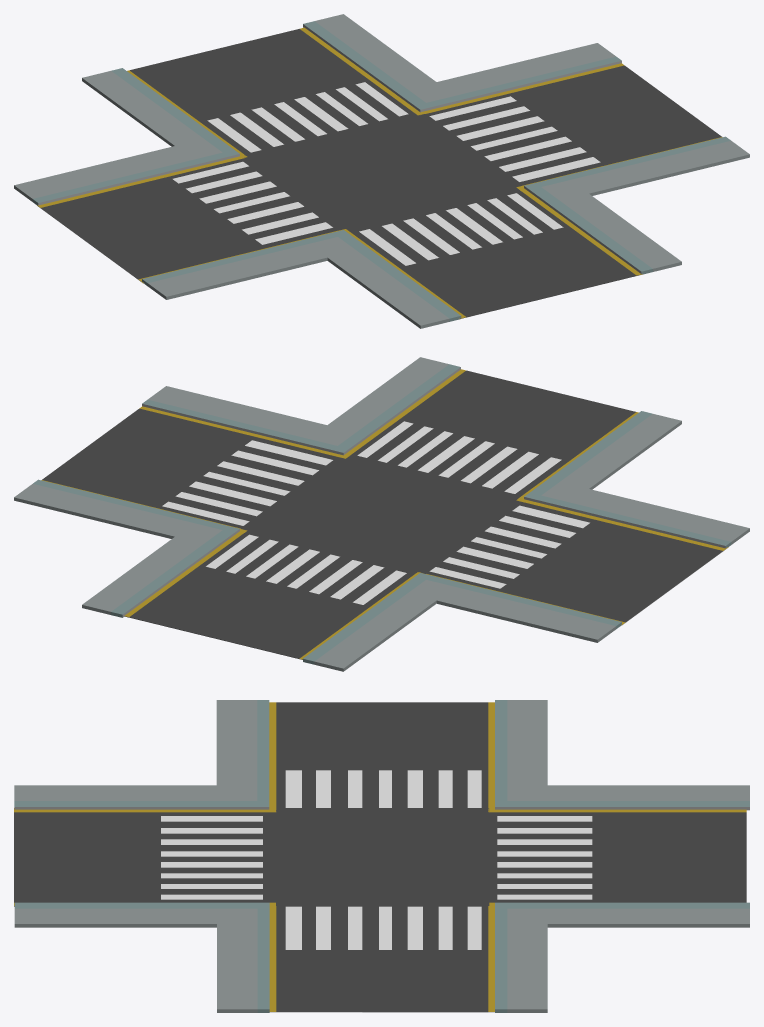
File: gobek.fbx
3 renders of one model, top to bottom at view 1: azimuth 30°, elevation 25°; view 2: azimuth 150°, elevation 25°; view 3: azimuth 270°, elevation 25°, orthographic. The views are drawn at different scales.
Parts seen in each view (by area): view 1: pCube1, pasted__pCube1, pCube2, pasted__pasted__pasted__pCube2, pasted__pCube2, pasted__pasted__pCube2; view 2: pCube1, pasted__pCube1, pasted__pCube2, pasted__pasted__pCube2, pCube2, pasted__pasted__pasted__pCube2; view 3: pCube1, pasted__pCube1, pasted__pasted__pasted__pCube2, pasted__pasted__pCube2, pCube2, pasted__pCube2.
Boxes of the visible parts, x1,y1,x2,y2 form: pCube1: (127,27,642,319); pasted__pCube1: (37,63,722,283); pCube2: (142,230,461,328); pasted__pasted__pasted__pCube2: (524,136,749,274); pasted__pCube2: (14,68,239,205); pasted__pasted__pCube2: (303,14,621,112); pCube1: (124,369,638,659); pasted__pCube1: (41,406,728,625); pasted__pCube2: (303,573,621,671); pasted__pasted__pCube2: (14,479,239,617); pCube2: (524,411,749,548); pasted__pasted__pasted__pCube2: (142,357,460,455); pCube1: (14,808,746,906); pasted__pCube1: (264,702,496,1012); pasted__pasted__pasted__pCube2: (14,902,269,1012); pasted__pasted__pCube2: (495,902,749,1012); pCube2: (14,700,269,809); pasted__pCube2: (495,700,749,810).
Size of the model in its own units: 107 by 0.5655 by 107.
